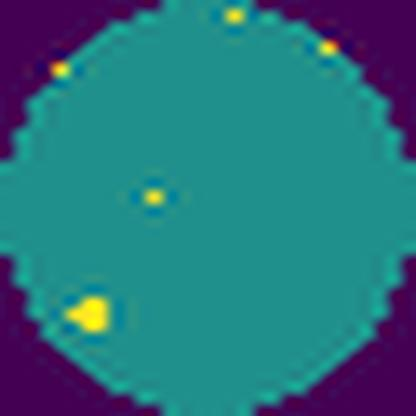Loc: (66, 293, 107, 331)
